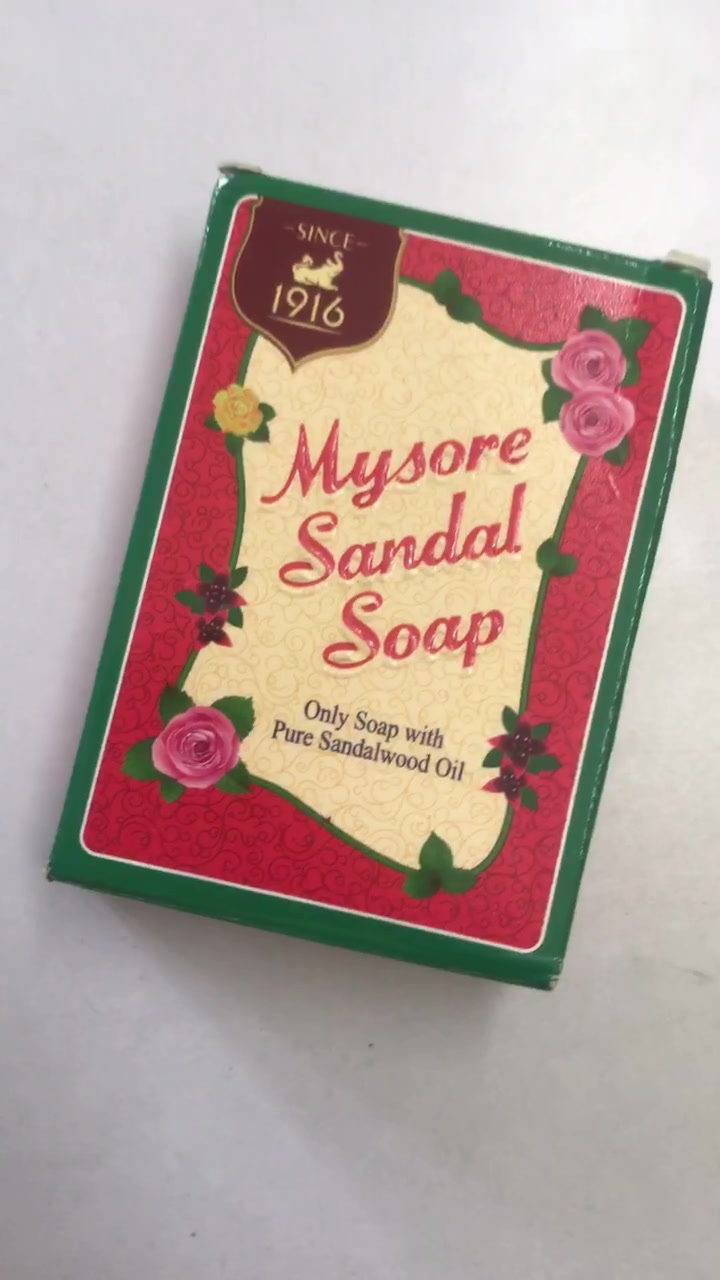mysore sandal soap: (83, 209, 687, 966)
